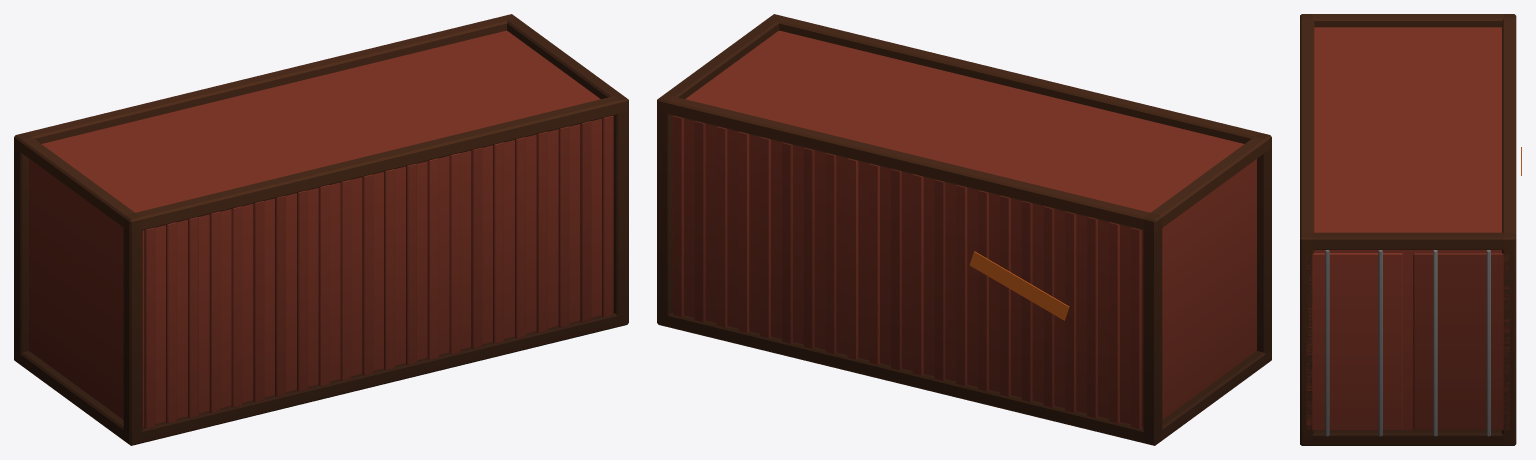
The model's file is shipping_container.glb.
3 renders of one model, left to right at view 1: azimuth 30°, elevation 25°; view 2: azimuth 150°, elevation 25°; view 3: azimuth 270°, elevation 25°, orthographic. The views are drawn at different scales.
Visible parts, largest first — view 1: shipping_container; view 2: shipping_container; view 3: shipping_container.
Boxes of the visible parts, left/top/right/bottom form: shipping_container: left=14, top=14, right=628, bottom=445; shipping_container: left=657, top=14, right=1271, bottom=445; shipping_container: left=1300, top=14, right=1521, bottom=445.
Bounding box in the file's own units: 6.04 × 2.6 × 2.5.
